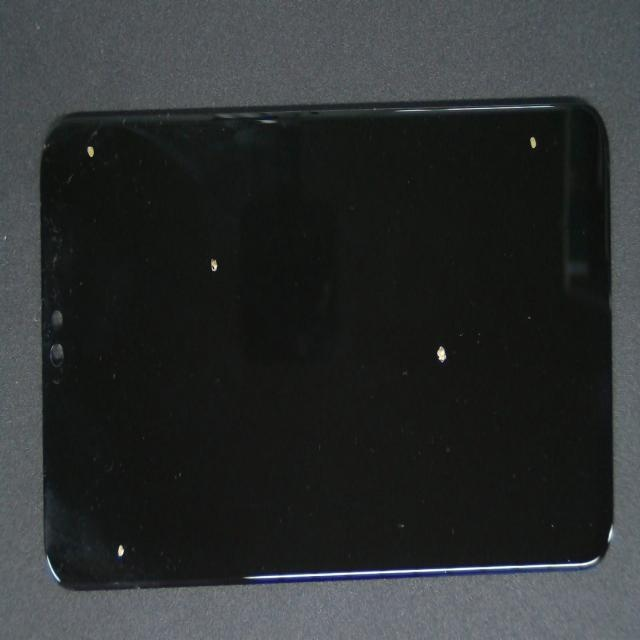stain: (222, 141, 640, 491), (129, 156, 339, 385), (278, 47, 640, 174), (76, 245, 173, 640), (61, 58, 137, 195)
